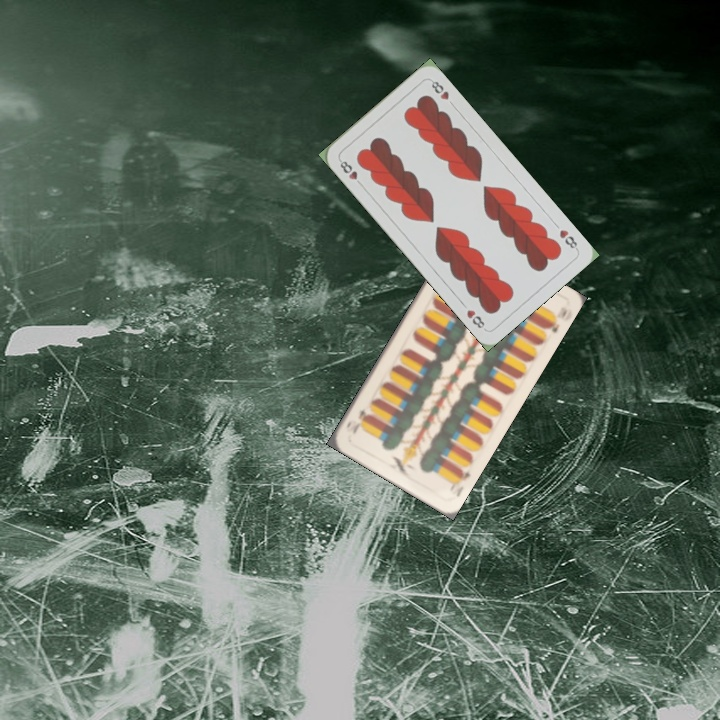E10: (452, 465, 473, 500)
H8: (335, 155, 366, 189), (555, 225, 581, 253)
